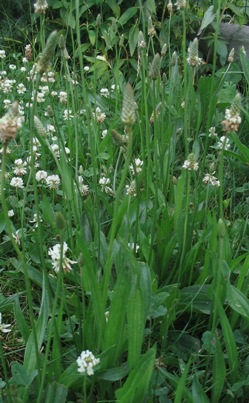buckhorn plantain: (13, 9, 235, 366)
